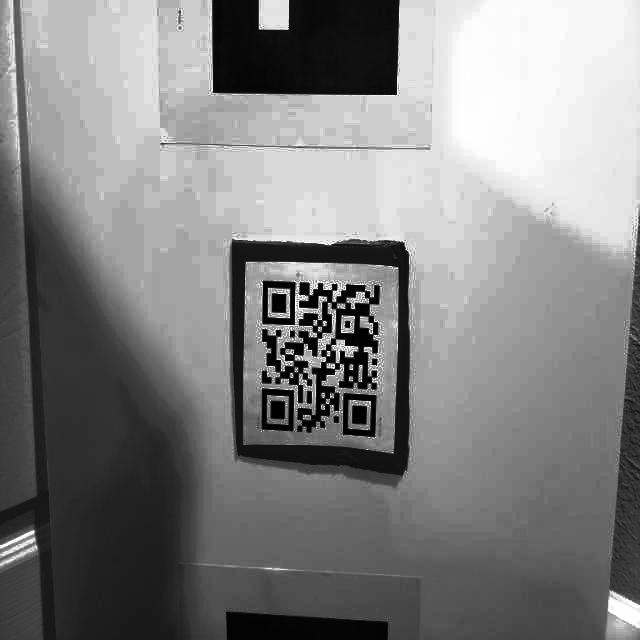qr_code: (255, 270, 383, 446)
